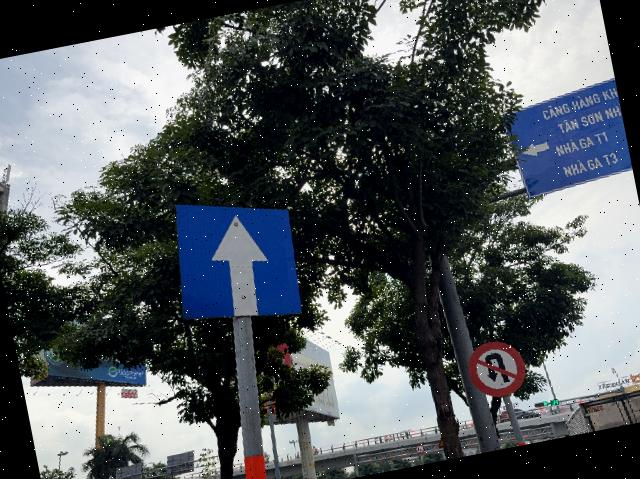cam-quay-dau-xe: (463, 334, 530, 402)
duong-mot-chieu: (160, 182, 308, 338)
